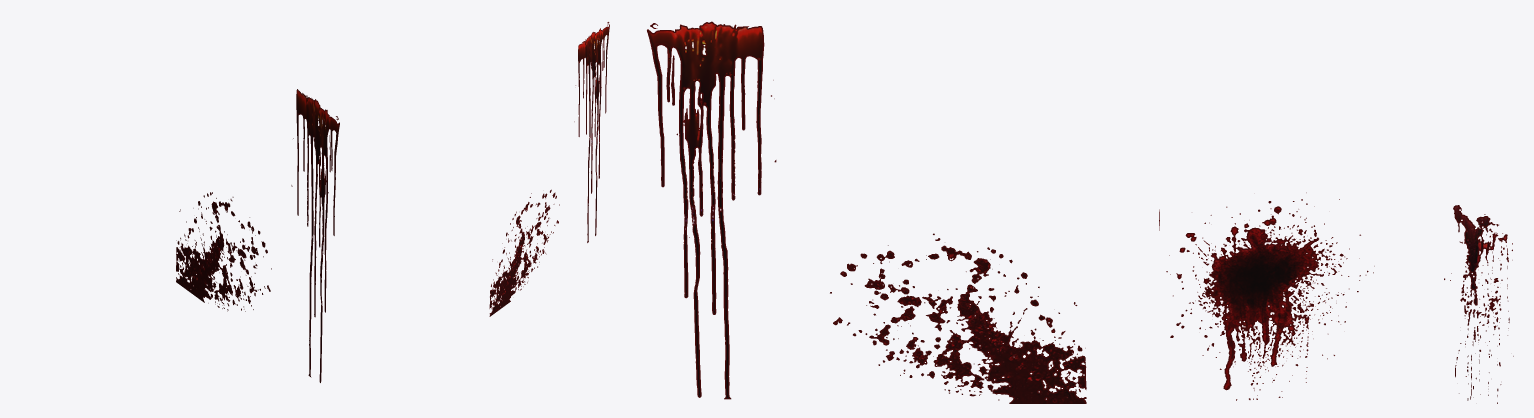
Rendered from Blood sprits.fbx.
3 renders of one model, left to right at view 1: azimuth 30°, elevation 25°; view 2: azimuth 150°, elevation 25°; view 3: azimuth 270°, elevation 25°, orthographic. The views are drawn at different scales.
Parts seen in each view (by area): view 1: pPlane3, pPlane2; view 2: pPlane3, pPlane2; view 3: pPlane3, pPlane2, pPlane4, pPlane5.
Part boxes in pixels (left/top/right/bottom): pPlane3: left=291, top=89, right=339, bottom=382; pPlane2: left=176, top=192, right=271, bottom=311; pPlane3: left=574, top=22, right=609, bottom=242; pPlane2: left=489, top=189, right=559, bottom=316; pPlane3: left=647, top=21, right=776, bottom=399; pPlane2: left=830, top=233, right=1086, bottom=403; pPlane4: left=1159, top=192, right=1374, bottom=400; pPlane5: left=1444, top=205, right=1513, bottom=403.
Size of the model in its own units: 1.4e-14 by 3 by 6.13.
